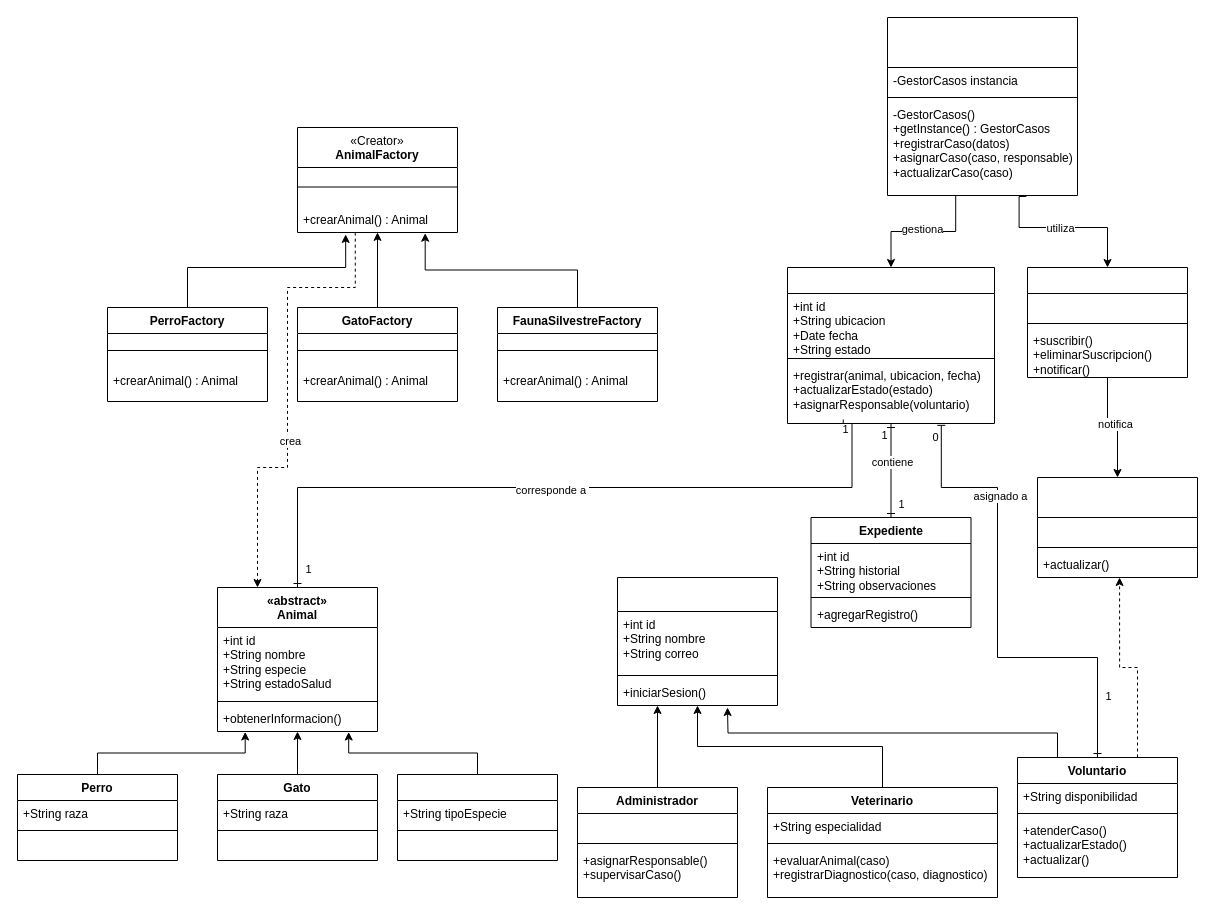
Image size: 1215x918. Some labels were removed from this diagram. Each missing label, with the box of its shape:
CasoRescate: (786, 266, 994, 424)
FaunaSilvestre: (396, 774, 558, 860)
Notificador: (1026, 266, 1188, 378)
«abstract» Usuario: (616, 576, 778, 706)
«interface» Observador: (1036, 476, 1198, 578)
«Singleton» GestorCasos: (886, 16, 1078, 196)
